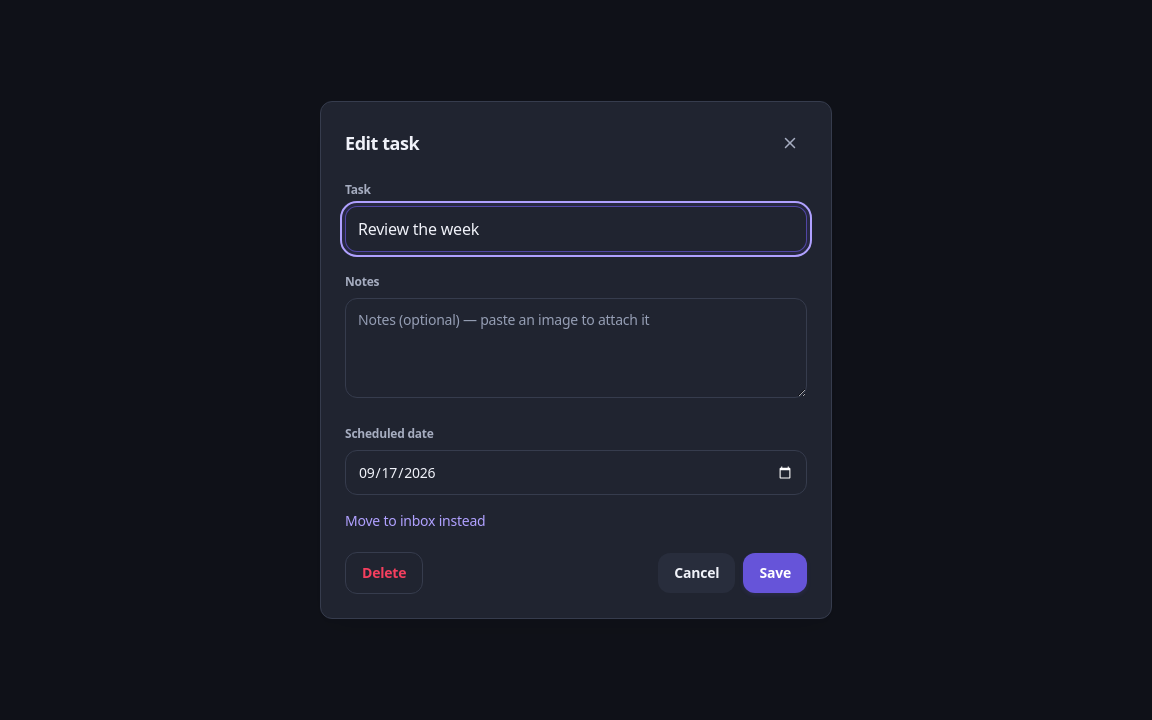
Task editor keyboard and recovery › retains unsaved text and explains a failed save
The image size is (1152, 720).
Step 1. Replace the text in the field with placeholder "Task title" with "Keep this draft" → (576, 229), box [345,206,807,252]
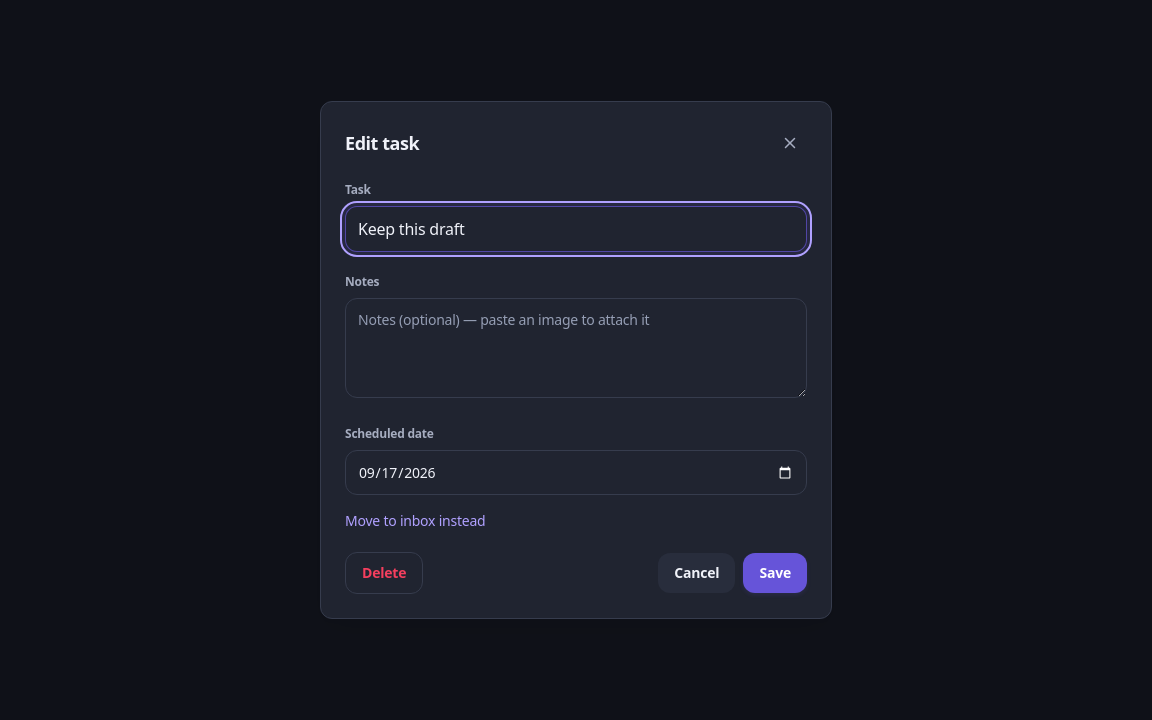
Step 2. Click the button "Save" → (775, 573), box [743,553,807,593]
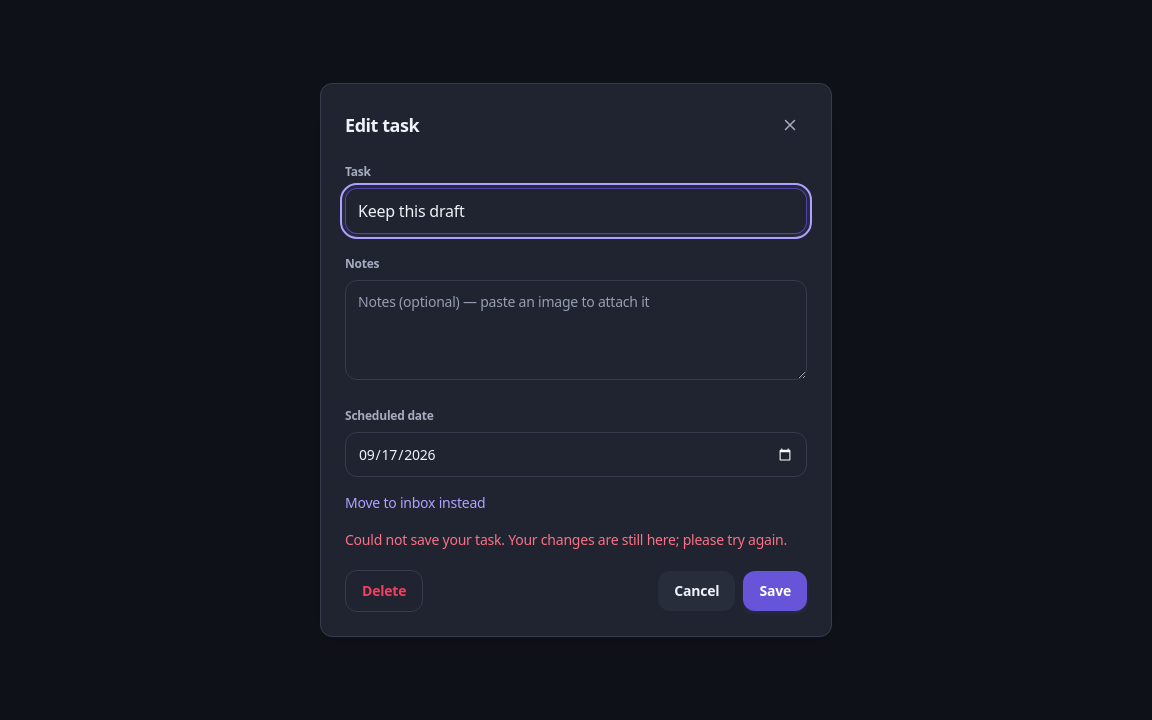
Check: the message shows "Could not save", box [345,530,787,549]
